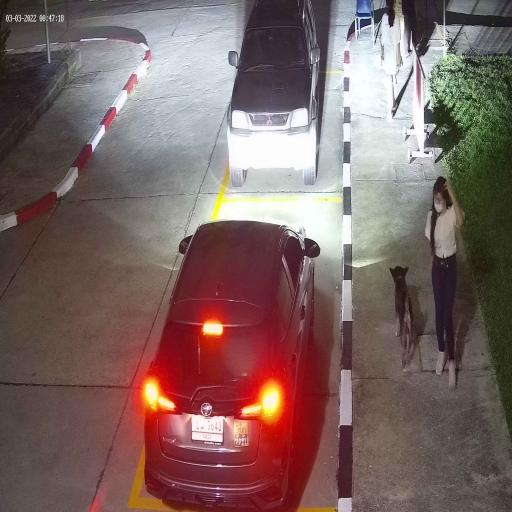car: (143, 218, 317, 512), (226, 0, 320, 188)
